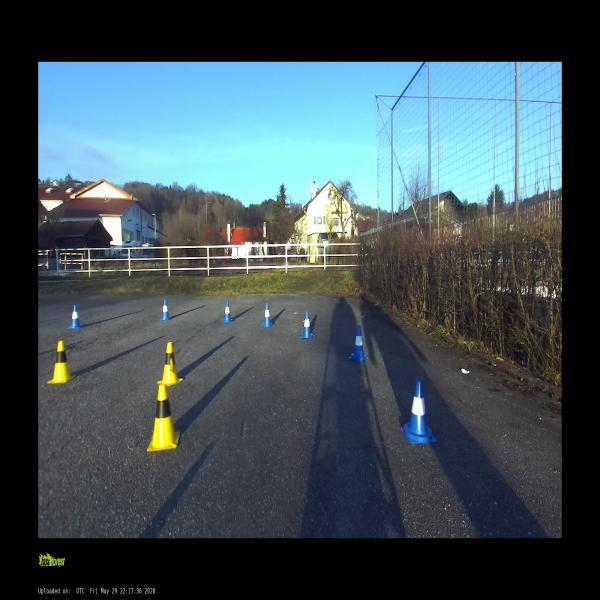blue_cone: (400, 378, 437, 444), (348, 326, 369, 362), (300, 311, 314, 338), (68, 305, 83, 329), (261, 303, 274, 328), (222, 300, 234, 324), (160, 300, 170, 321)
yellow_cone: (147, 384, 180, 453), (47, 341, 75, 384), (157, 342, 183, 386)
